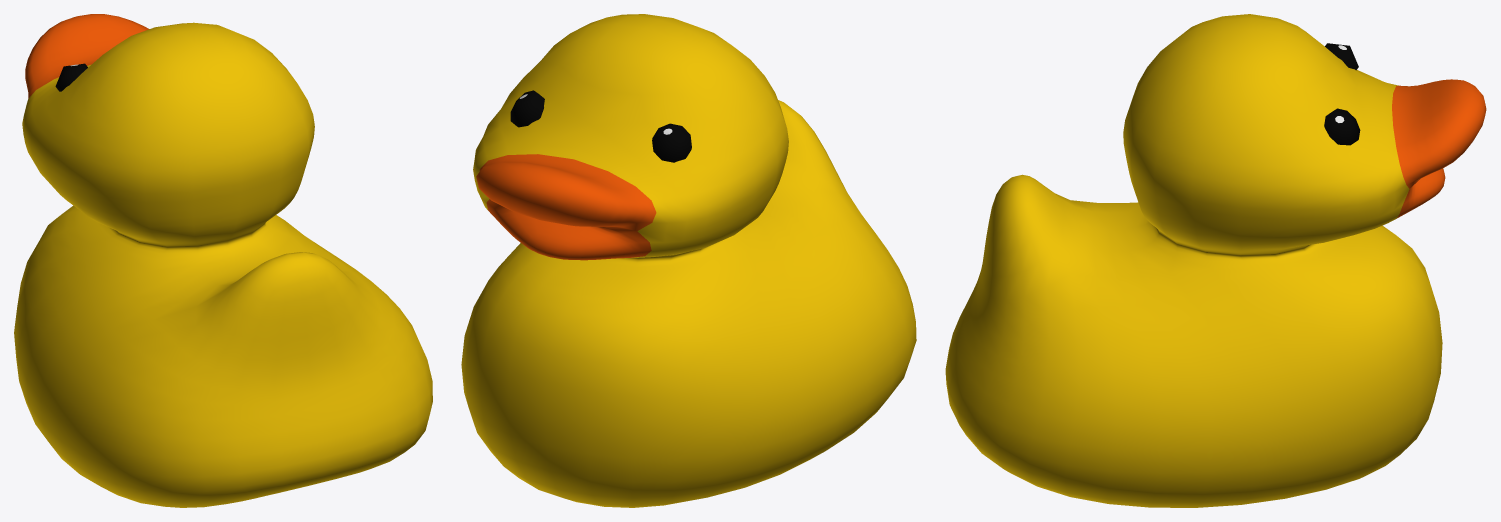
File: RubberDuck 1.fbx
3 renders of one model, left to right at view 1: azimuth 30°, elevation 25°; view 2: azimuth 150°, elevation 25°; view 3: azimuth 270°, elevation 25°, orthographic. The views are drawn at different scales.
Parts seen in each view (by area): view 1: RubberDuck; view 2: RubberDuck; view 3: RubberDuck.
Boxes of the visible parts, x1,y1,x2,y2 form: RubberDuck: [14, 14, 432, 507]; RubberDuck: [461, 14, 916, 507]; RubberDuck: [945, 14, 1486, 507].
Bounding box in the file's own units: 381 × 450 × 507.
